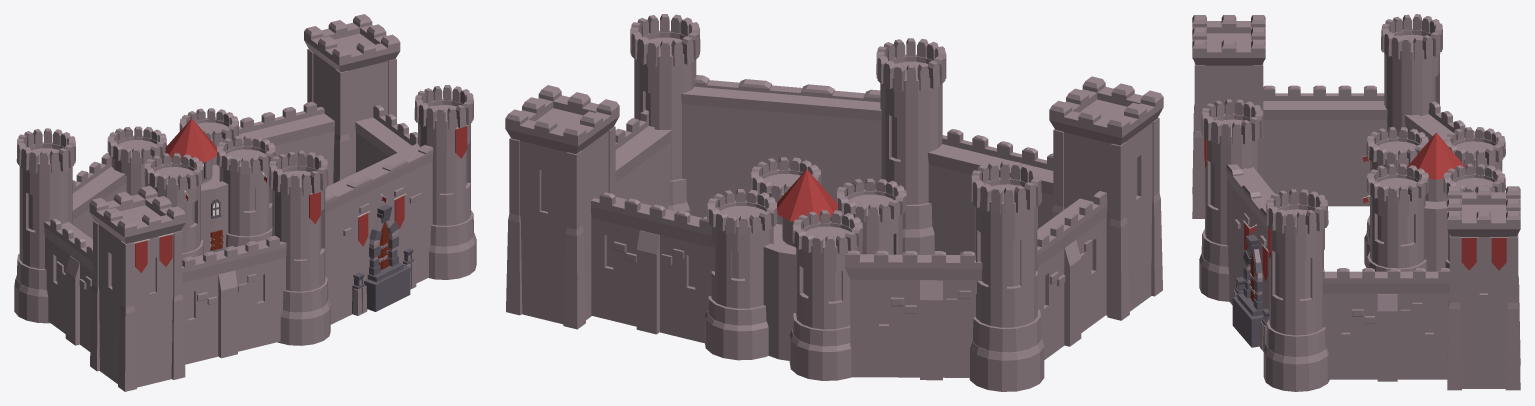
File: House_of_Power.fbx
3 views of the same model, side by side, from view 1: azimuth 30°, elevation 25°; view 2: azimuth 150°, elevation 25°; view 3: azimuth 270°, elevation 25° (orthographic). The views are drawn at different scales.
Parts seen in each view (by area): view 1: House_of_Power; view 2: House_of_Power; view 3: House_of_Power.
Boxes of the visible parts, box(x1,y1,x2,y2) form: House_of_Power: box(14, 14, 476, 391); House_of_Power: box(505, 14, 1163, 391); House_of_Power: box(1192, 14, 1520, 391).
Size of the model in its own units: 2487 by 3637 by 1476.
